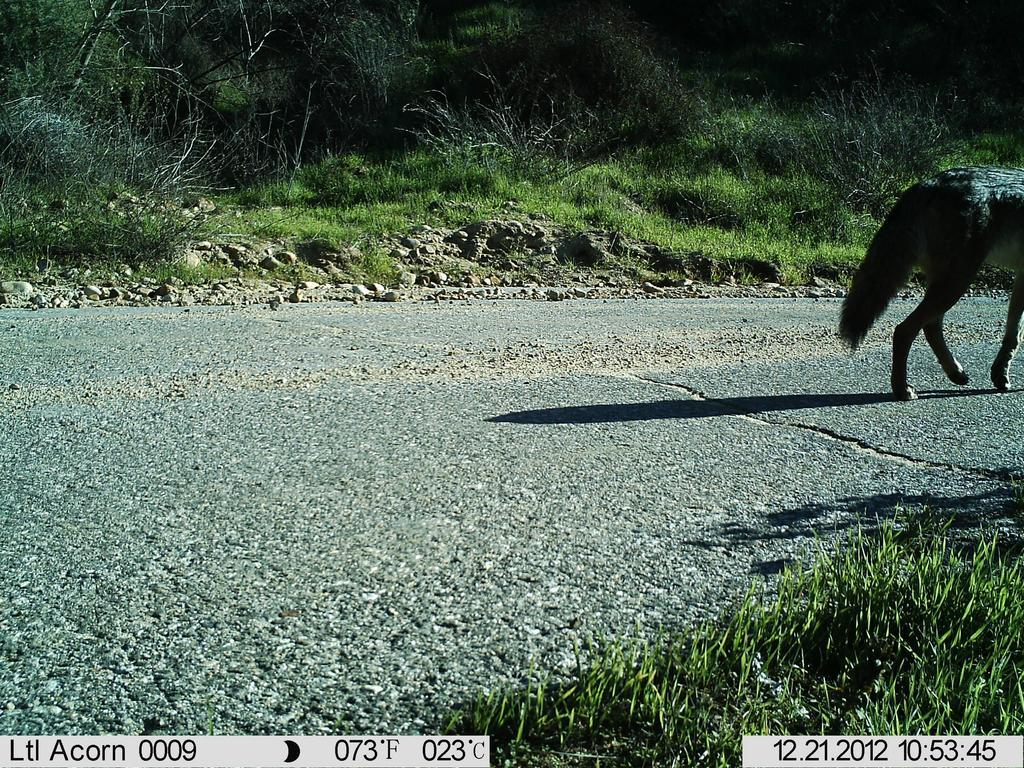coyote: (831, 148, 1021, 404)
